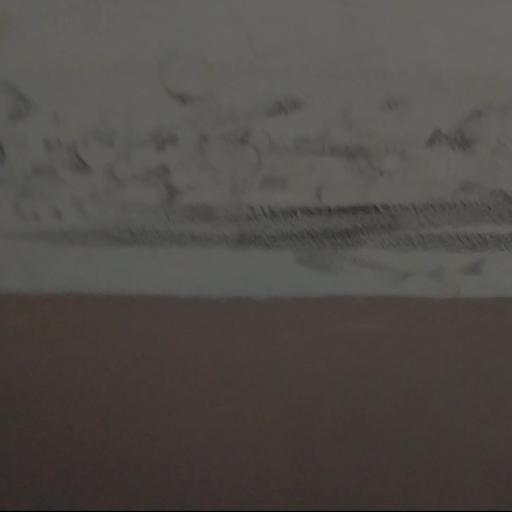stain: (1, 16, 512, 286)
